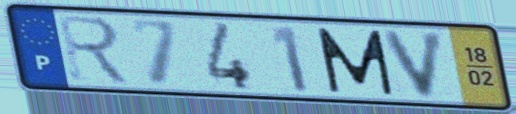1: (270, 24, 312, 94)
4: (204, 20, 255, 92)
7: (128, 17, 181, 88)
M: (313, 26, 398, 98)
R: (54, 12, 135, 87)
V: (379, 28, 450, 101)
